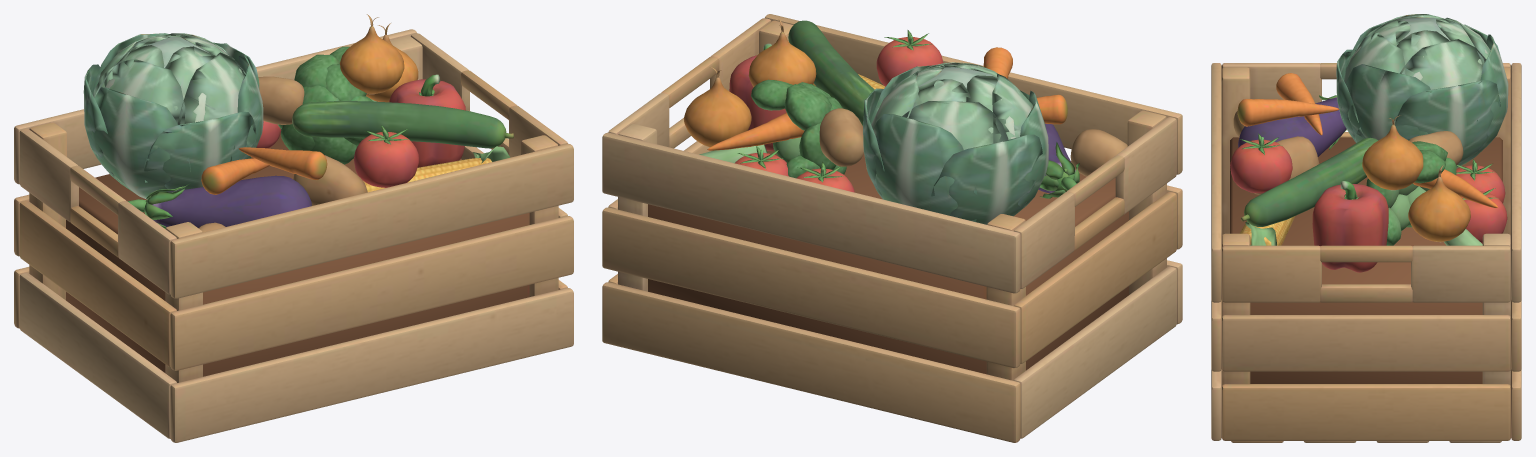
Rendered from vegetable-crate.glb.
The picture shows the model from 3 angles, left to right: view 1: azimuth 30°, elevation 25°; view 2: azimuth 150°, elevation 25°; view 3: azimuth 270°, elevation 25°; orthographic projection. The views are drawn at different scales.
Parts seen in each view (by area): view 1: vegetable-crate_body; view 2: vegetable-crate_body; view 3: vegetable-crate_body.
Part boxes in pixels (left/top/right/bottom): vegetable-crate_body: left=14, top=14, right=573, bottom=442; vegetable-crate_body: left=602, top=14, right=1182, bottom=442; vegetable-crate_body: left=1211, top=14, right=1521, bottom=442.
Bounding box in the file's own units: 0.5 × 0.3588 × 0.35.
1 material, 1 textured.
